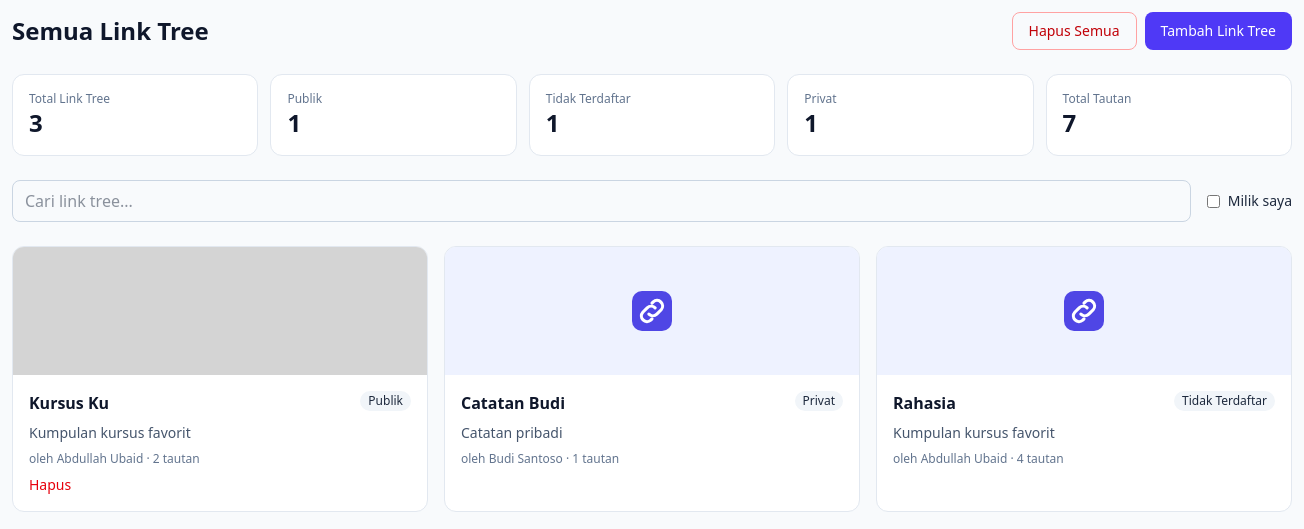
Test case: HomePage › mencari berdasarkan judul, deskripsi, atau penulis
The width and height of the screenshot is (1304, 529).
Expected: the link "Catatan Budi" is shown, [461,391,565,415]
Step 1. Type "budi" into the search field labelled "Cari link tree" → (601, 201), box [12,180,1191,222]
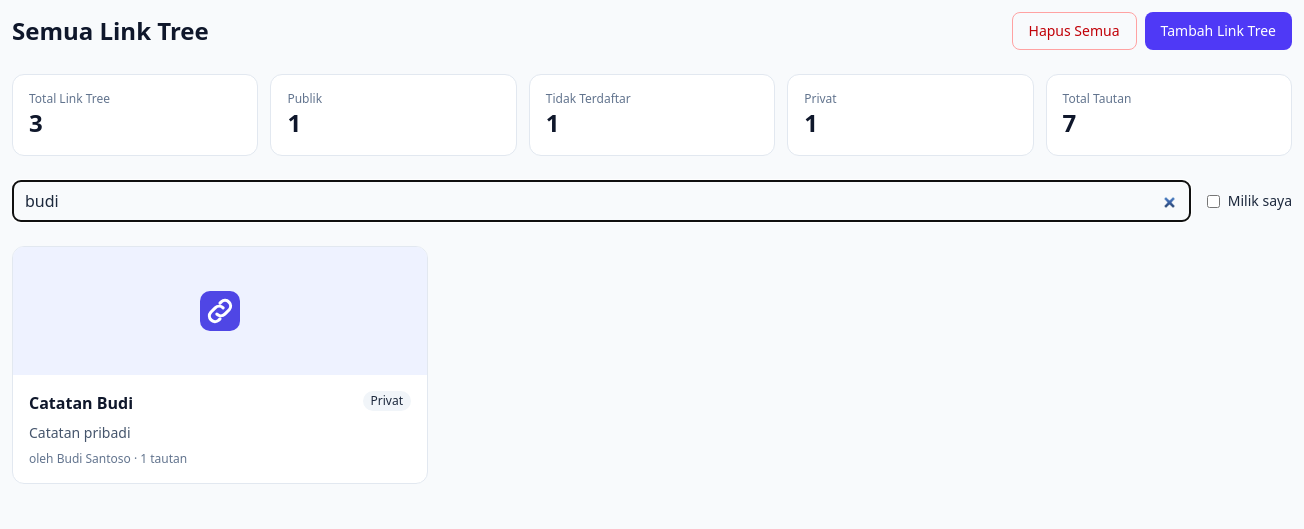
Expected: the link "Catatan Budi" is shown, [29,391,133,415]
Result: the link "Kursus Ku" is gone
Step 2. Replace the text in the search field named "Cari link tree" with "zzz-tidak-ada" → (601, 201), box [12,180,1191,222]
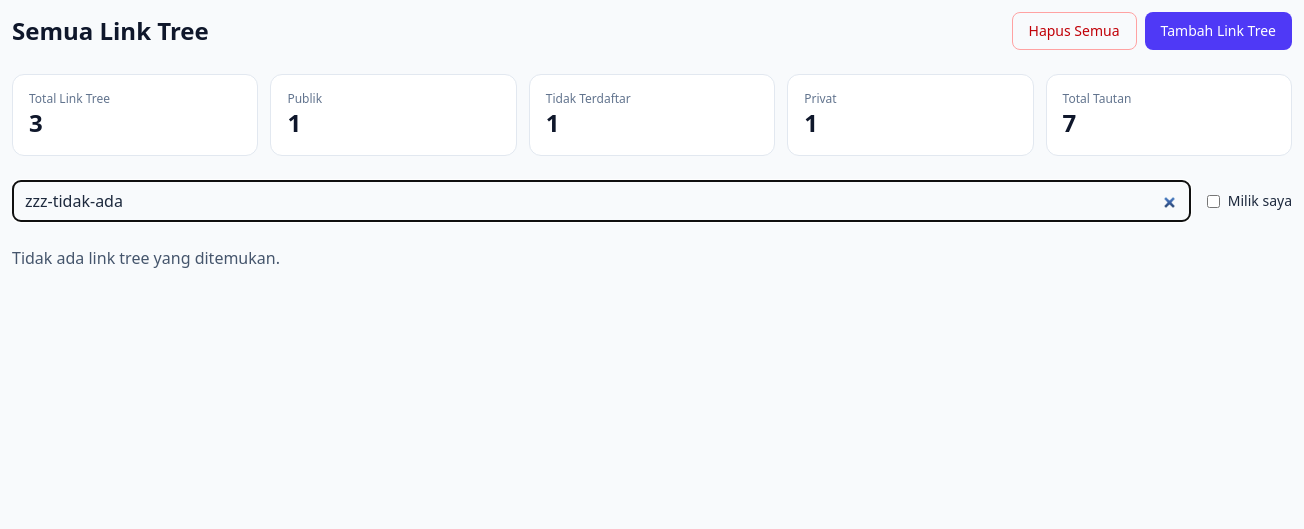
Result: the text "Tidak ada link tree yang ditemukan." is shown at [12,247,280,269]
